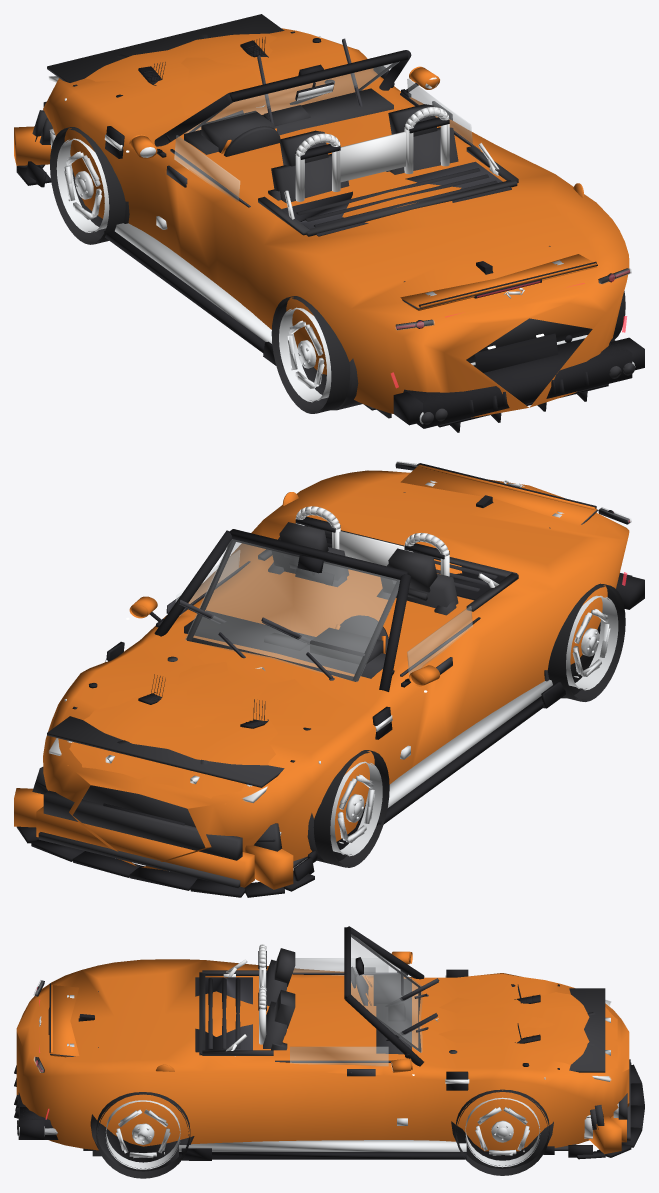
Rendered from vehicle.glb.
3 views of the same model, one above another, from view 1: azimuth 30°, elevation 25°; view 2: azimuth 150°, elevation 25°; view 3: azimuth 270°, elevation 25° (orthographic). The views are drawn at different scales.
Visible parts, largest first — view 1: GEO_FTYPE_Monocoque_Body_Shell, GEO_FTYPE_Gloss_Black_Rear_Diffuser, GEO_FTYPE_Clamshell_Bonnet, GEO_FTYPE_Pirelli_PZero_Tires, GEO_FTYPE_Windshield_Optical_Glass, GEO_FTYPE_Cockpit_Cowl_and_Dash, GEO_FTYPE_Rollover_Protection_Hoops, GEO_FTYPE_Sport_Bucket_Seats, GEO_FTYPE_20in_Cyclone_Barrels, GEO_FTYPE_Structural_Sills, GEO_FTYPE_Bonnet_Underside_Ribbing, GEO_FTYPE_Windshield_Header_Frame (+14 smaller); view 2: GEO_FTYPE_Monocoque_Body_Shell, GEO_FTYPE_Windshield_Optical_Glass, GEO_FTYPE_Clamshell_Bonnet, GEO_FTYPE_Front_Bumper_Valance, GEO_FTYPE_Pedestrian_Impact_Core, GEO_FTYPE_Cockpit_Cowl_and_Dash, GEO_FTYPE_Pirelli_PZero_Tires, GEO_FTYPE_Sport_Bucket_Seats, GEO_FTYPE_Windshield_Header_Frame, GEO_FTYPE_20in_Cyclone_Barrels, GEO_FTYPE_Front_Aerodynamic_Splitter, GEO_FTYPE_Bonnet_Underside_Ribbing (+15 smaller); view 3: GEO_FTYPE_Monocoque_Body_Shell, GEO_FTYPE_Windshield_Optical_Glass, GEO_FTYPE_Clamshell_Bonnet, GEO_FTYPE_Structural_Sills, GEO_FTYPE_Enclosed_Wheelhouse_Tubs, GEO_FTYPE_20in_Cyclone_Barrels, GEO_FTYPE_Aerodynamic_Side_Skirts, GEO_FTYPE_Sport_Bucket_Seats, GEO_FTYPE_Pirelli_PZero_Tires, GEO_FTYPE_Cockpit_Cowl_and_Dash, GEO_FTYPE_Weatherstripping_and_Gaskets, GEO_FTYPE_Bonnet_Underside_Ribbing (+14 smaller).
Boxes of the visible parts, left/top/right/bottom form: GEO_FTYPE_Monocoque_Body_Shell: left=43, top=28, right=629, bottom=417; GEO_FTYPE_Gloss_Black_Rear_Diffuser: left=393, top=334, right=644, bottom=428; GEO_FTYPE_Clamshell_Bonnet: left=59, top=33, right=304, bottom=115; GEO_FTYPE_Pirelli_PZero_Tires: left=50, top=127, right=625, bottom=413; GEO_FTYPE_Windshield_Optical_Glass: left=174, top=61, right=472, bottom=201; GEO_FTYPE_Cockpit_Cowl_and_Dash: left=184, top=88, right=393, bottom=156; GEO_FTYPE_Rollover_Protection_Hoops: left=295, top=107, right=449, bottom=201; GEO_FTYPE_Sport_Bucket_Seats: left=268, top=104, right=458, bottom=203; GEO_FTYPE_20in_Cyclone_Barrels: left=56, top=138, right=331, bottom=402; GEO_FTYPE_Structural_Sills: left=115, top=216, right=271, bottom=343; GEO_FTYPE_Bonnet_Underside_Ribbing: left=47, top=14, right=284, bottom=82; GEO_FTYPE_Windshield_Header_Frame: left=154, top=50, right=411, bottom=146; GEO_FTYPE_Monocoque_Body_Shell: left=43, top=470, right=629, bottom=870; GEO_FTYPE_Windshield_Optical_Glass: left=175, top=539, right=472, bottom=681; GEO_FTYPE_Clamshell_Bonnet: left=67, top=661, right=311, bottom=804; GEO_FTYPE_Front_Bumper_Valance: left=14, top=788, right=293, bottom=889; GEO_FTYPE_Pedestrian_Impact_Core: left=38, top=790, right=242, bottom=887; GEO_FTYPE_Cockpit_Cowl_and_Dash: left=184, top=610, right=388, bottom=678; GEO_FTYPE_Pirelli_PZero_Tires: left=313, top=583, right=625, bottom=867; GEO_FTYPE_Sport_Bucket_Seats: left=268, top=522, right=458, bottom=615; GEO_FTYPE_Windshield_Header_Frame: left=154, top=529, right=411, bottom=691; GEO_FTYPE_20in_Cyclone_Barrels: left=330, top=595, right=618, bottom=856; GEO_FTYPE_Front_Aerodynamic_Splitter: left=16, top=826, right=314, bottom=897; GEO_FTYPE_Bonnet_Underside_Ribbing: left=47, top=716, right=284, bottom=787; GEO_FTYPE_Monocoque_Body_Shell: left=16, top=959, right=629, bottom=1151; GEO_FTYPE_Windshield_Optical_Glass: left=290, top=934, right=422, bottom=1066; GEO_FTYPE_Clamshell_Bonnet: left=439, top=992, right=617, bottom=1074; GEO_FTYPE_Structural_Sills: left=179, top=1118, right=466, bottom=1151; GEO_FTYPE_Enclosed_Wheelhouse_Tubs: left=90, top=1114, right=553, bottom=1171; GEO_FTYPE_20in_Cyclone_Barrels: left=105, top=1097, right=540, bottom=1169; GEO_FTYPE_Aerodynamic_Side_Skirts: left=179, top=1148, right=466, bottom=1160; GEO_FTYPE_Sport_Bucket_Seats: left=263, top=948, right=295, bottom=1050; GEO_FTYPE_Pirelli_PZero_Tires: left=96, top=1089, right=549, bottom=1178; GEO_FTYPE_Cockpit_Cowl_and_Dash: left=356, top=974, right=411, bottom=1054; GEO_FTYPE_Weatherstripping_and_Gaskets: left=195, top=972, right=398, bottom=1062; GEO_FTYPE_Bonnet_Underside_Ribbing: left=569, top=988, right=605, bottom=1072.
Size of the model in its own units: 1.99 by 1.31 by 4.6.
